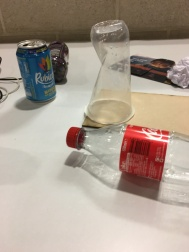bottle_red: (53, 117, 189, 195)
can_blue: (10, 35, 60, 106)
